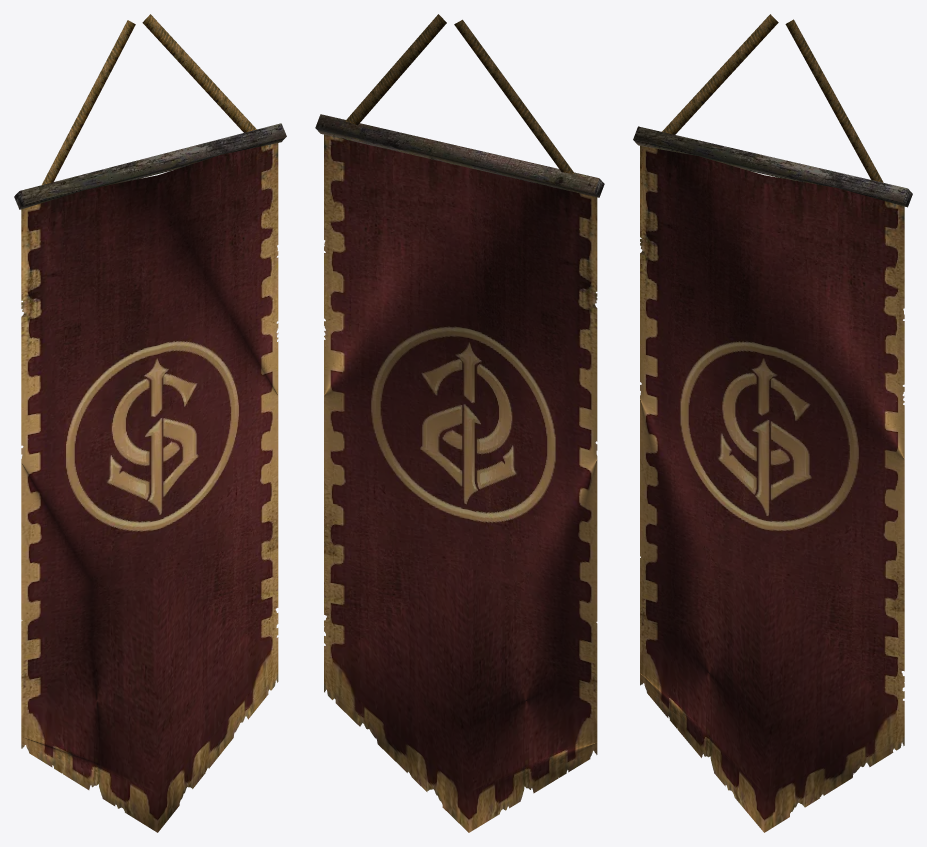
Rendered from GS_MONASTERY_FLAG_SAGA_01.glb.
3 renders of one model, left to right at view 1: azimuth 30°, elevation 25°; view 2: azimuth 150°, elevation 25°; view 3: azimuth 330°, elevation 25°, orthographic. The views are drawn at different scales.
Parts seen in each view (by area): view 1: Mesh; view 2: Mesh; view 3: Mesh.
Part boxes in pixels (left/top/right/bottom): Mesh: left=14, top=14, right=286, bottom=832; Mesh: left=315, top=14, right=604, bottom=832; Mesh: left=633, top=14, right=912, bottom=832.
Size of the model in its own units: 1.42 by 4.1 by 0.1699.
3 materials, 3 textured.
